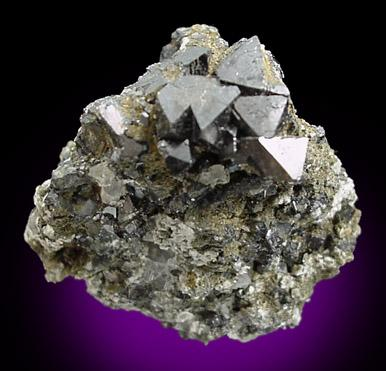magnetite: (158, 36, 309, 180), (163, 139, 194, 170)
